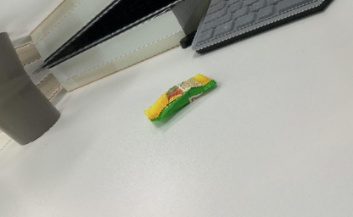jeli: (139, 63, 222, 133)
